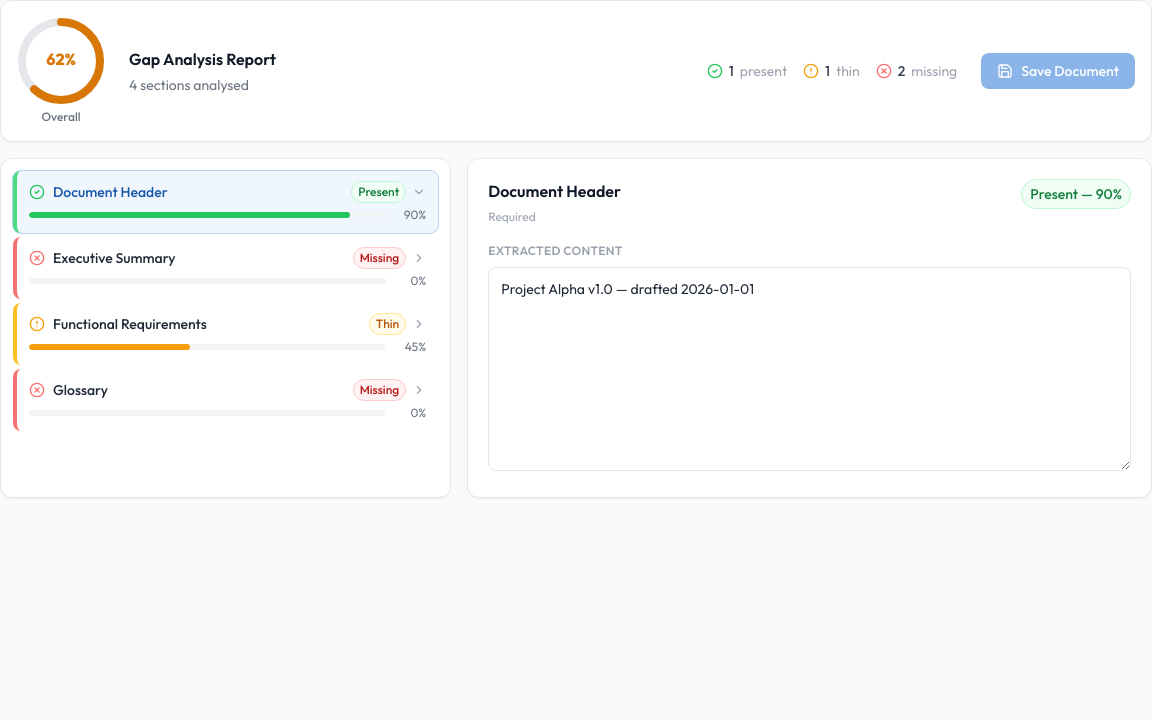
Test case: GapAnalysisPanel — Approve › shows approved banner after approving a section
The width and height of the screenshot is (1152, 720).
What coordinates should you click on to do the following:
click the text "Functional Requirements"
I would click on:
 (130, 324)
Its box is [53,314,207,334].
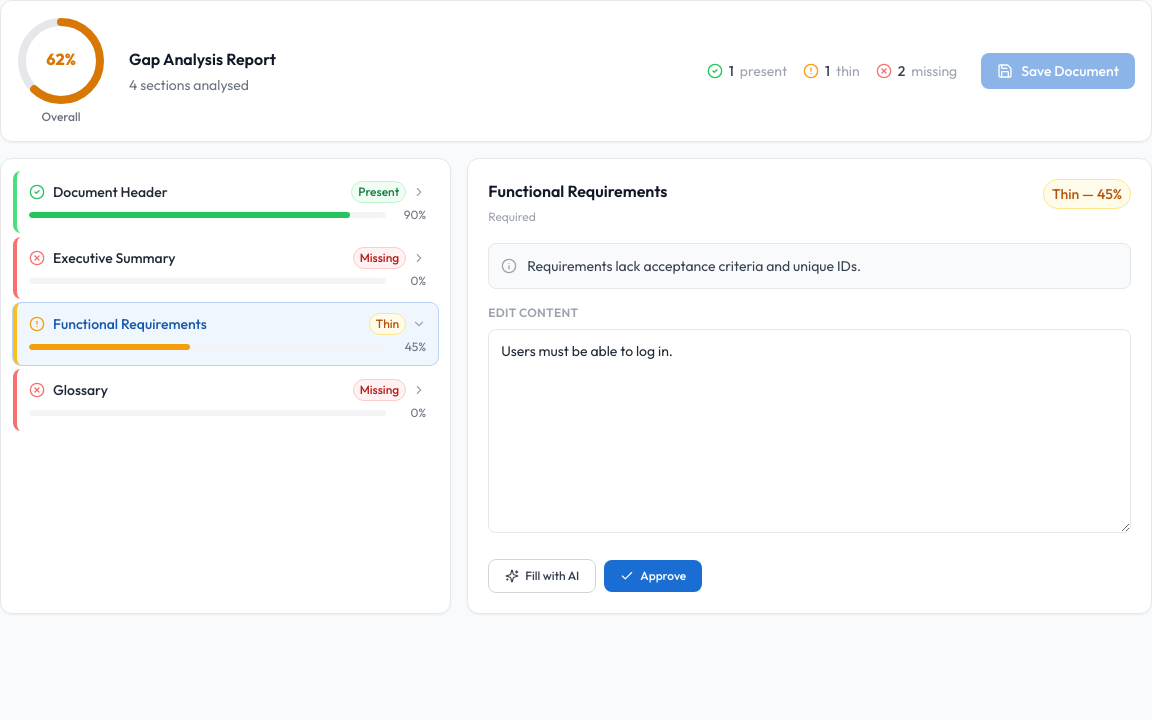
What coordinates should you click on to do the following:
click the button with aria-label "approve functional requirements"
I would click on:
 (653, 576)
Its box is [604,560,702,592].
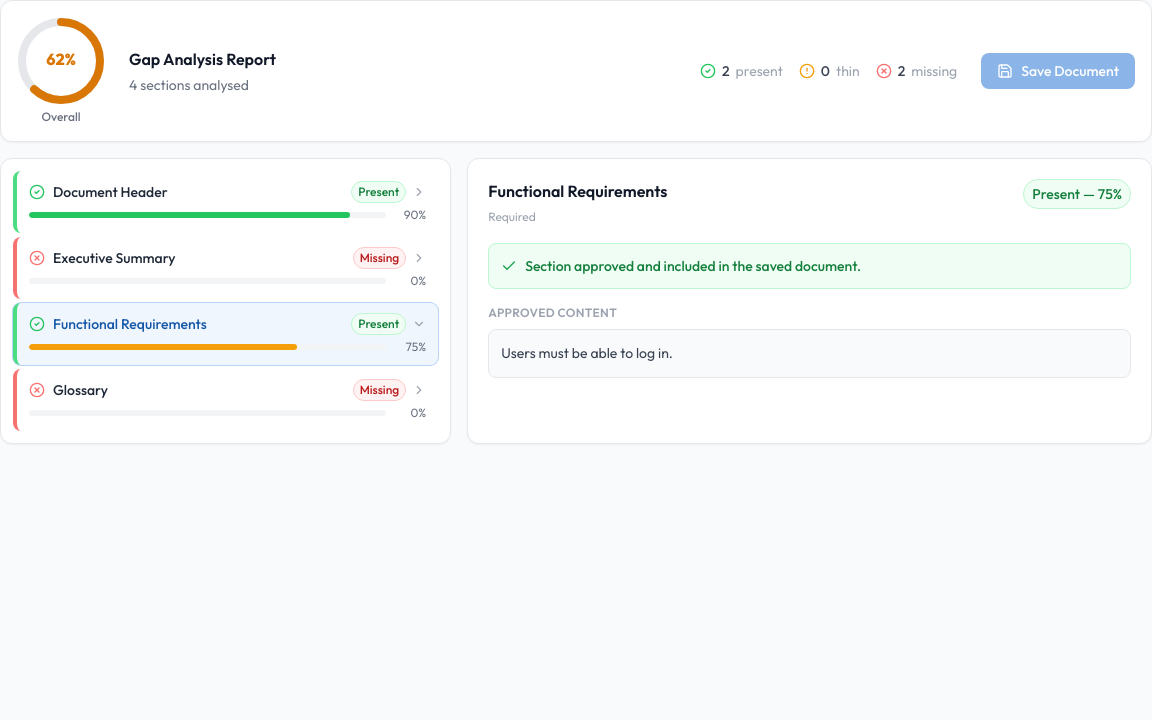
Check: the text "Section approved and included in the saved document." is shown, box [525,256,861,276]
